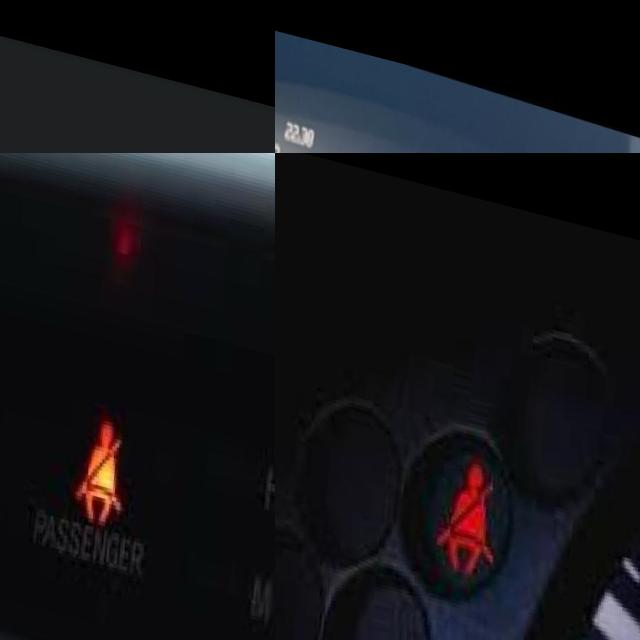Seat Belt: (439, 443, 508, 564), (83, 401, 133, 511)
